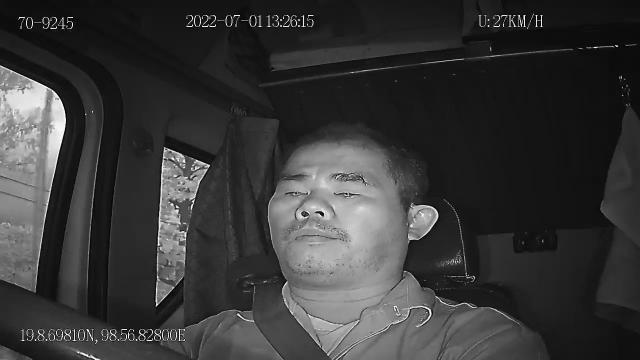SafeDriving: (324, 174, 372, 203), (276, 180, 314, 204)
Seatbelt: (250, 280, 336, 360)
